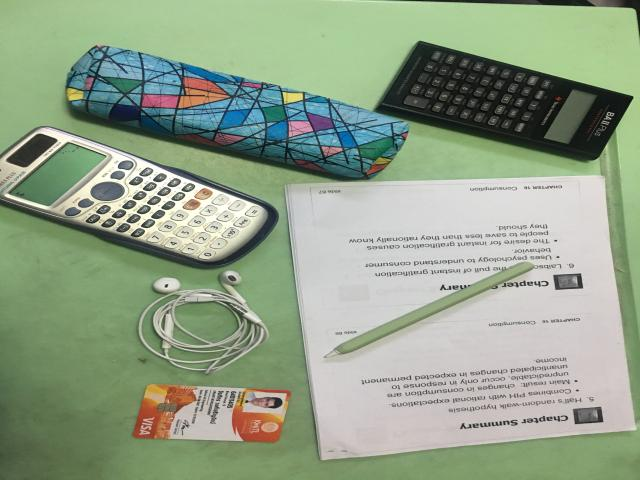paper: (285, 176, 635, 459)
wire: (138, 271, 268, 374)
